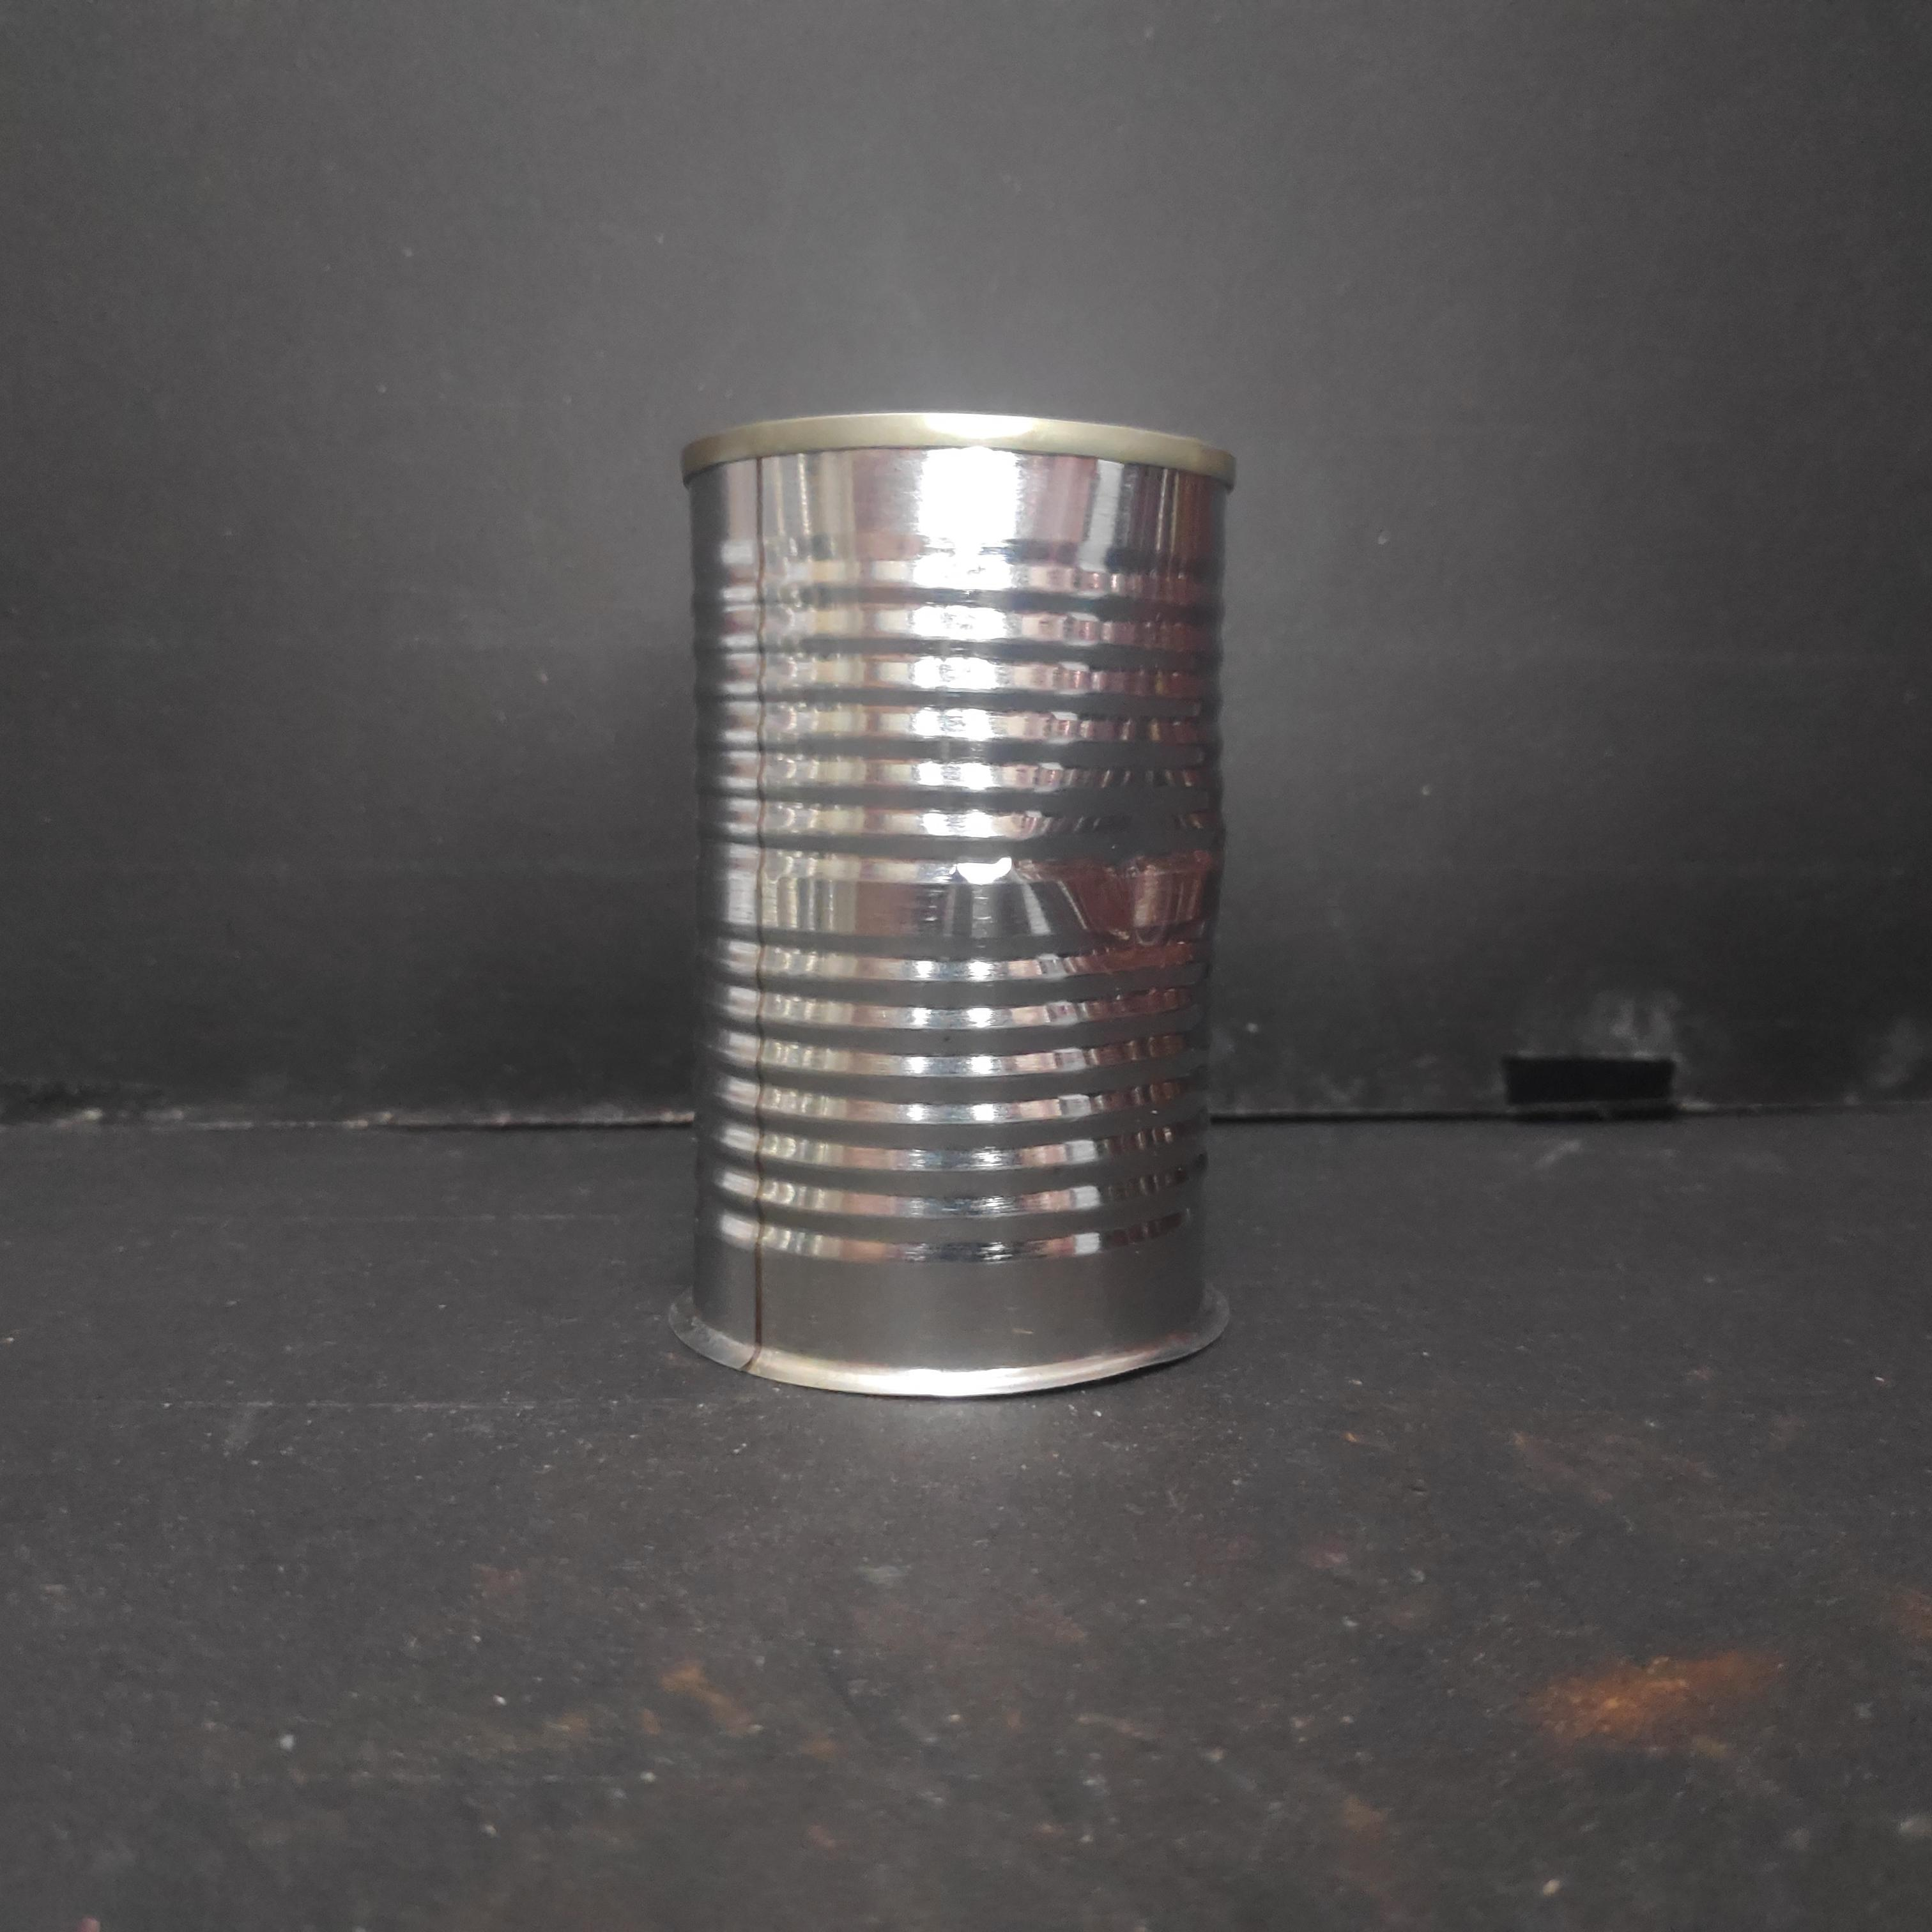Minor Defect: (665, 400, 1244, 1405)
